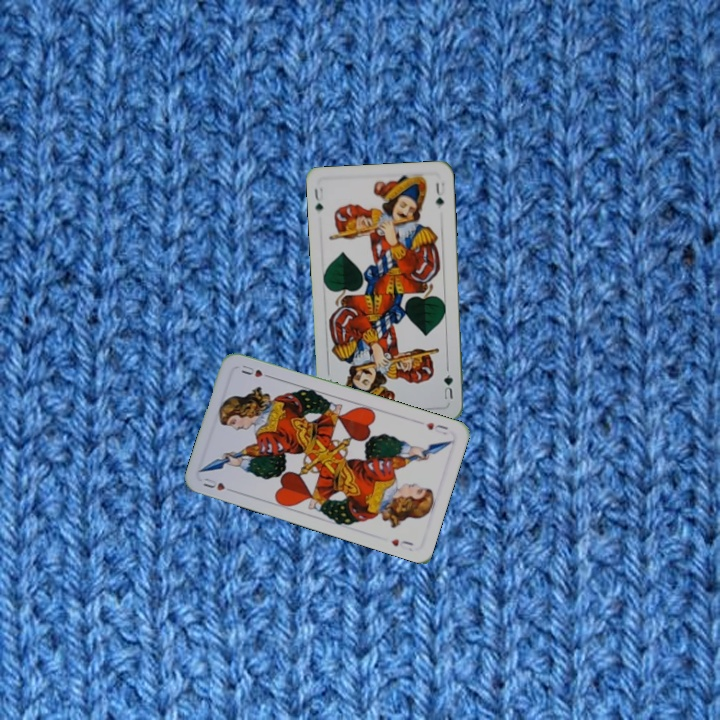GU: (440, 370, 455, 403), (310, 184, 326, 214)
HU: (199, 473, 238, 495), (422, 418, 450, 438)
